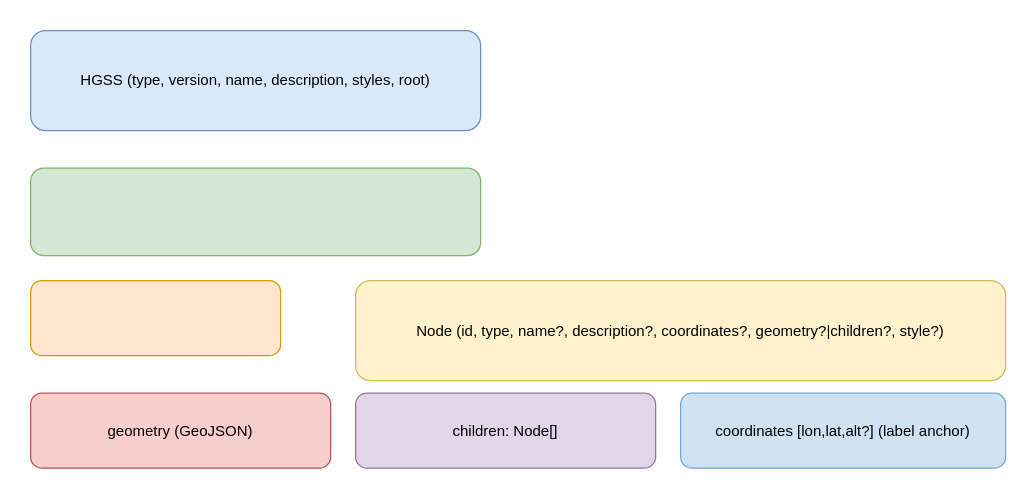
The diagram is 1028 pixels wide and 490 high, and some of its shapes have lost their labels. The centre of each missing label's shape, as x and y in pixels:
root: Node: point 155,317
styles: { '{Type}' | '#id' → style map }: point 255,211
